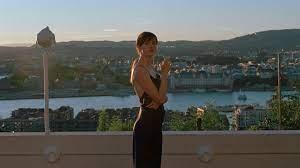Persons: (131, 28, 164, 63)
